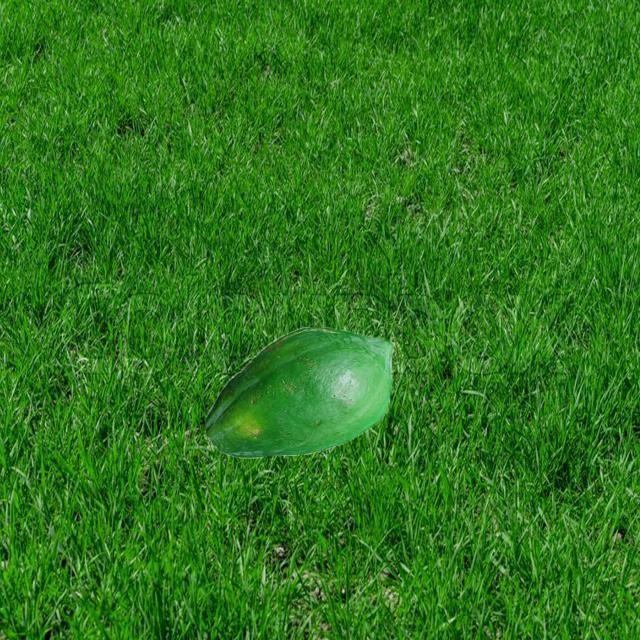Pepaya unrippen: (198, 328, 406, 461)
